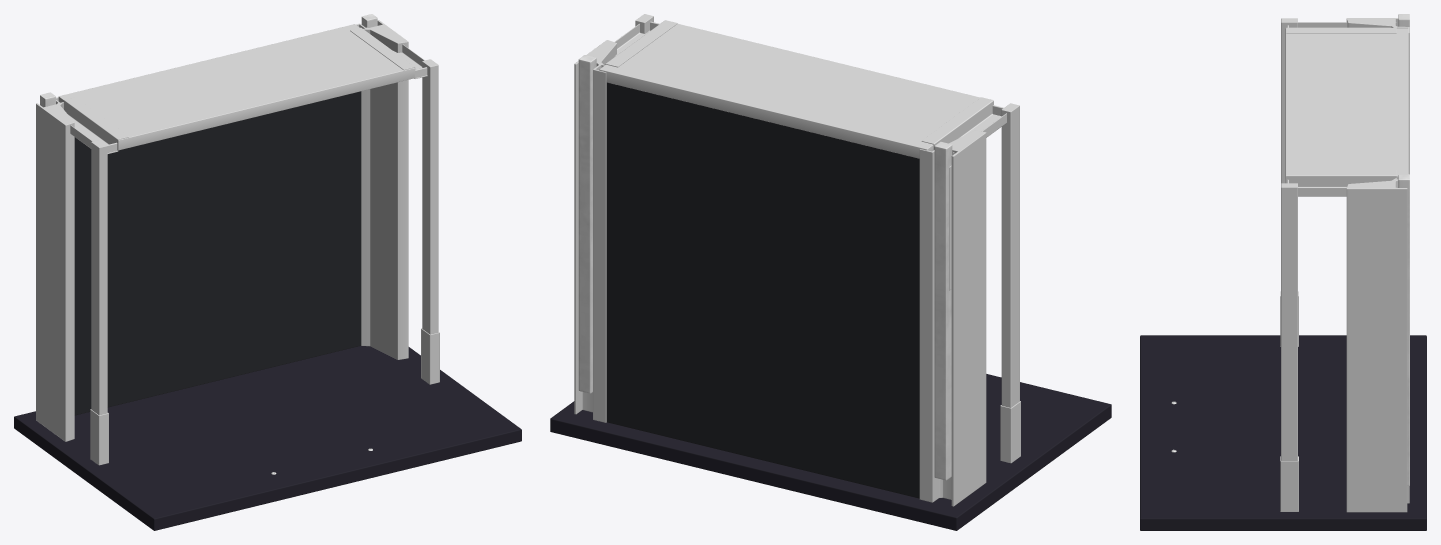
File: SM_Kitchen_01_Drawer_02.obj
The picture shows the model from 3 angles, left to right: view 1: azimuth 30°, elevation 25°; view 2: azimuth 150°, elevation 25°; view 3: azimuth 270°, elevation 25°; orthographic projection. The views are drawn at different scales.
Visible parts, largest first — view 1: SM_Kitchen_01_Drawer_02; view 2: SM_Kitchen_01_Drawer_02; view 3: SM_Kitchen_01_Drawer_02.
Part boxes in pixels (x1,y1,x2,y2): SM_Kitchen_01_Drawer_02: (14,14,521,530); SM_Kitchen_01_Drawer_02: (550,14,1111,530); SM_Kitchen_01_Drawer_02: (1140,14,1426,530).
Size of the model in its own units: 0.5969 by 0.5199 by 0.3943.
4 materials, 4 textured.
